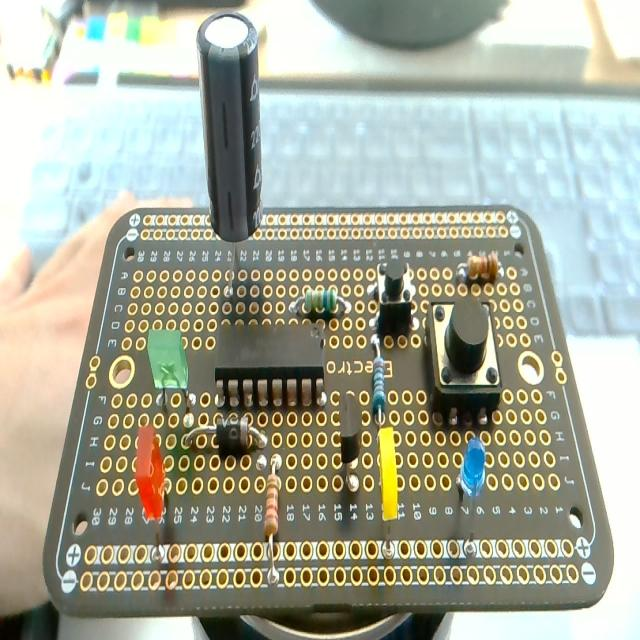Electrolytic capacitor: (198, 14, 264, 312)
IC: (210, 318, 330, 409)
diode: (185, 415, 269, 454)
led: (136, 425, 169, 564), (376, 397, 401, 546), (146, 328, 188, 394), (455, 438, 486, 503)
resistor: (263, 456, 283, 585), (291, 284, 350, 322), (457, 251, 500, 286), (371, 340, 387, 421)
switch: (426, 285, 506, 423), (370, 258, 417, 338)
transistor: (338, 394, 360, 490)
